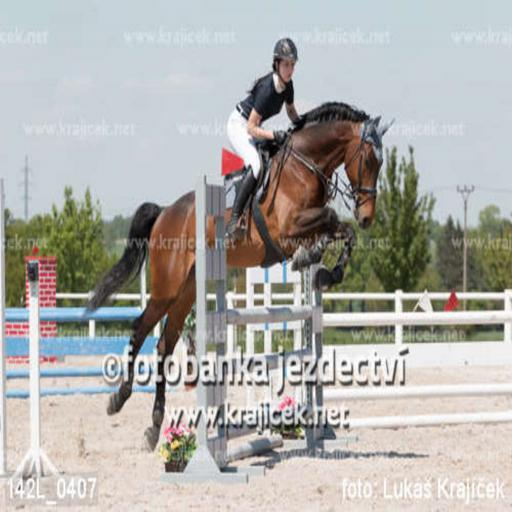Horse: (78, 97, 396, 449)
